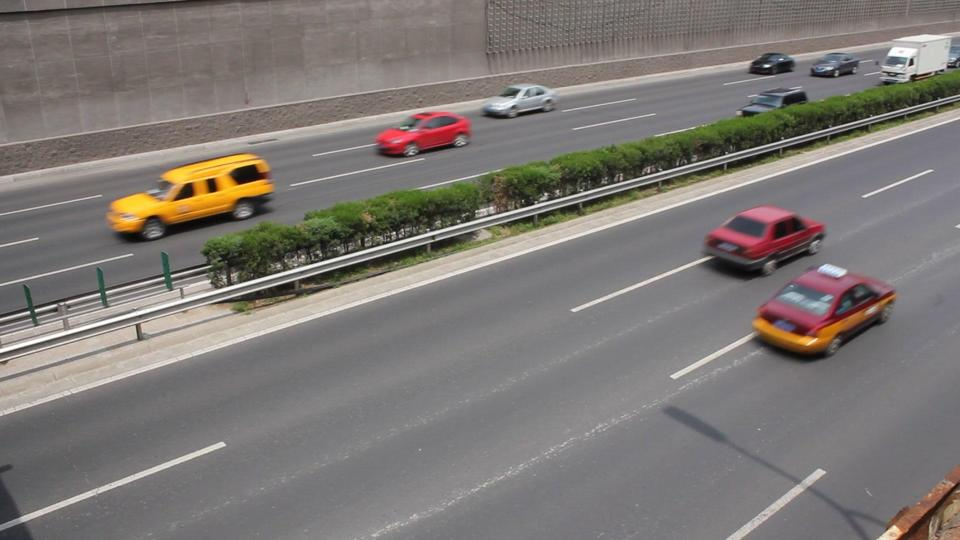Car: (106, 156, 271, 237), (748, 267, 891, 356), (700, 208, 822, 276), (374, 110, 468, 158), (737, 88, 807, 129), (480, 84, 557, 118), (805, 52, 857, 78), (745, 51, 792, 75)
